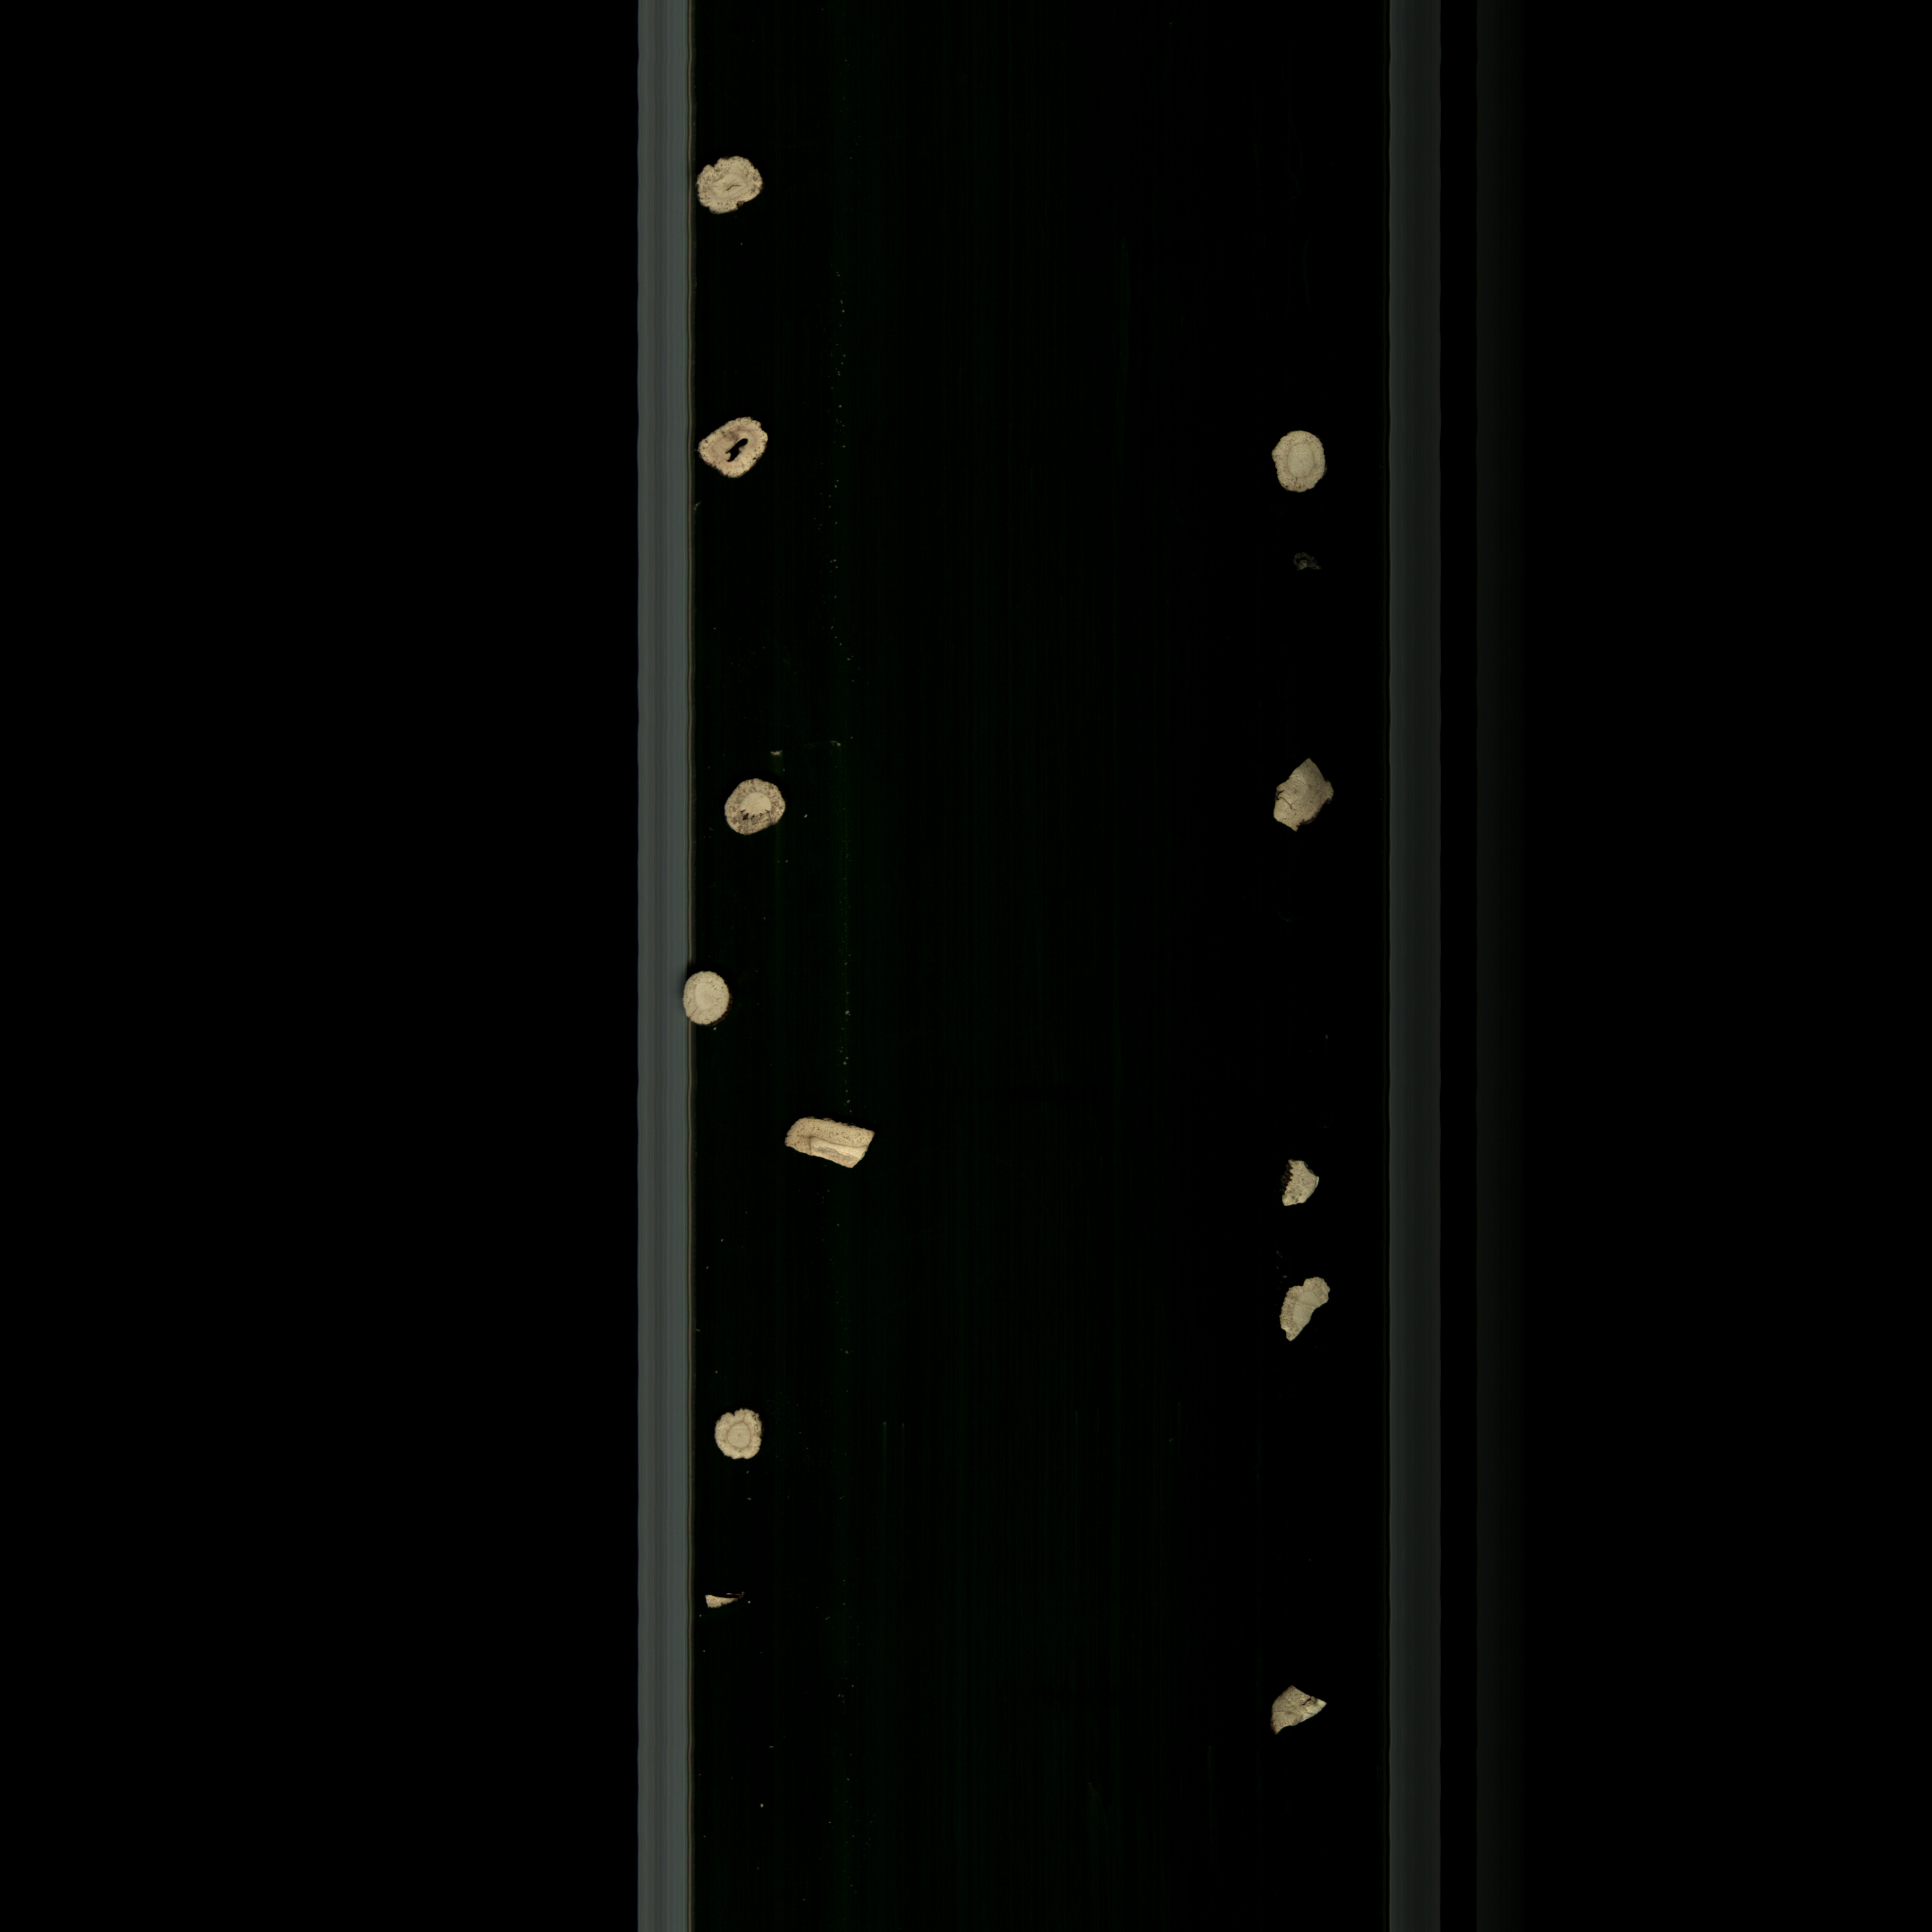debris: (1258, 757, 1343, 847), (1261, 1672, 1336, 1744), (1269, 1276, 1343, 1345), (1270, 1148, 1327, 1215)
distortion: (763, 1100, 893, 1182), (678, 150, 791, 221)
dreg: (690, 1587, 754, 1622)
hole: (713, 770, 796, 847), (690, 412, 777, 485)
